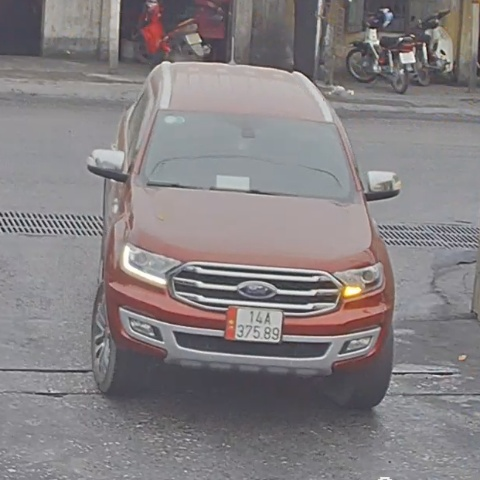vehicle plate: (223, 297, 287, 342)
